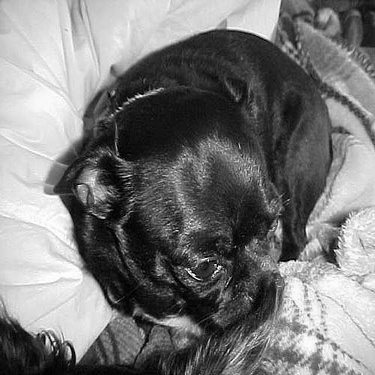dog: (53, 25, 342, 335), (1, 283, 286, 371)
